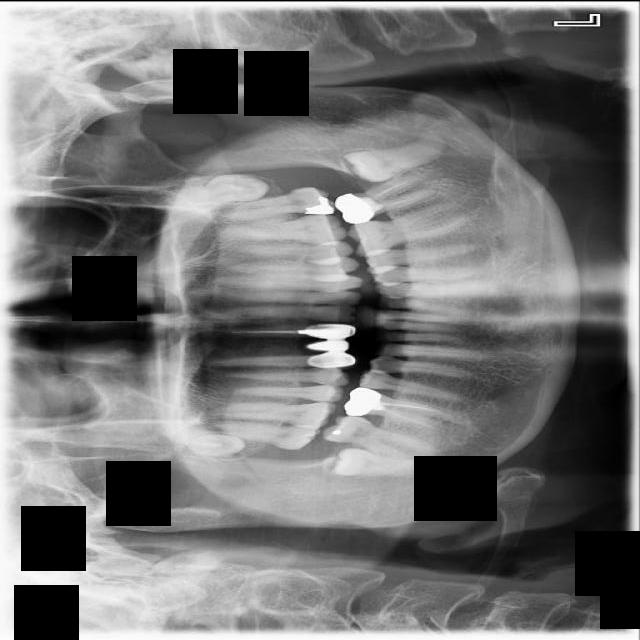3M ESPE Implant: (167, 430, 245, 459)
52: (302, 320, 358, 370), (331, 180, 384, 232), (319, 411, 375, 445), (341, 383, 389, 422), (285, 185, 339, 214)
73: (378, 392, 458, 436), (227, 325, 309, 337), (590, 32, 606, 44)
BioHorizons Implant: (215, 184, 339, 223)
BioLife Implant: (165, 170, 269, 205)
Biomet 3i Implant: (342, 126, 452, 189)
Blue Sky Bio Implant: (332, 167, 440, 229)
Caries: (202, 418, 323, 452)
Implant: (319, 407, 438, 468)
Keystone Dental Implant: (330, 446, 429, 476)
